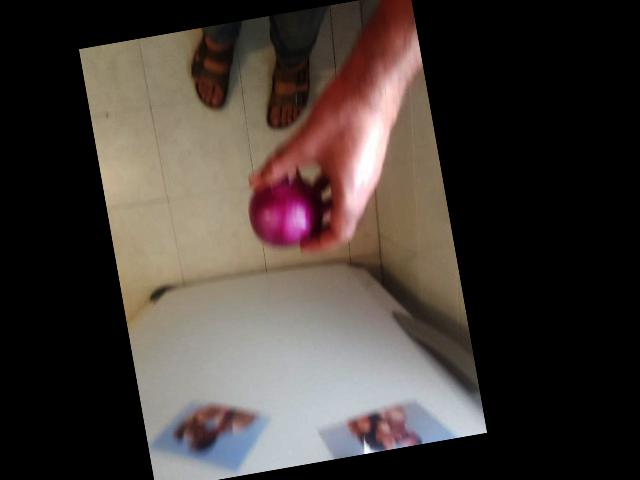onion: (241, 170, 323, 250)
